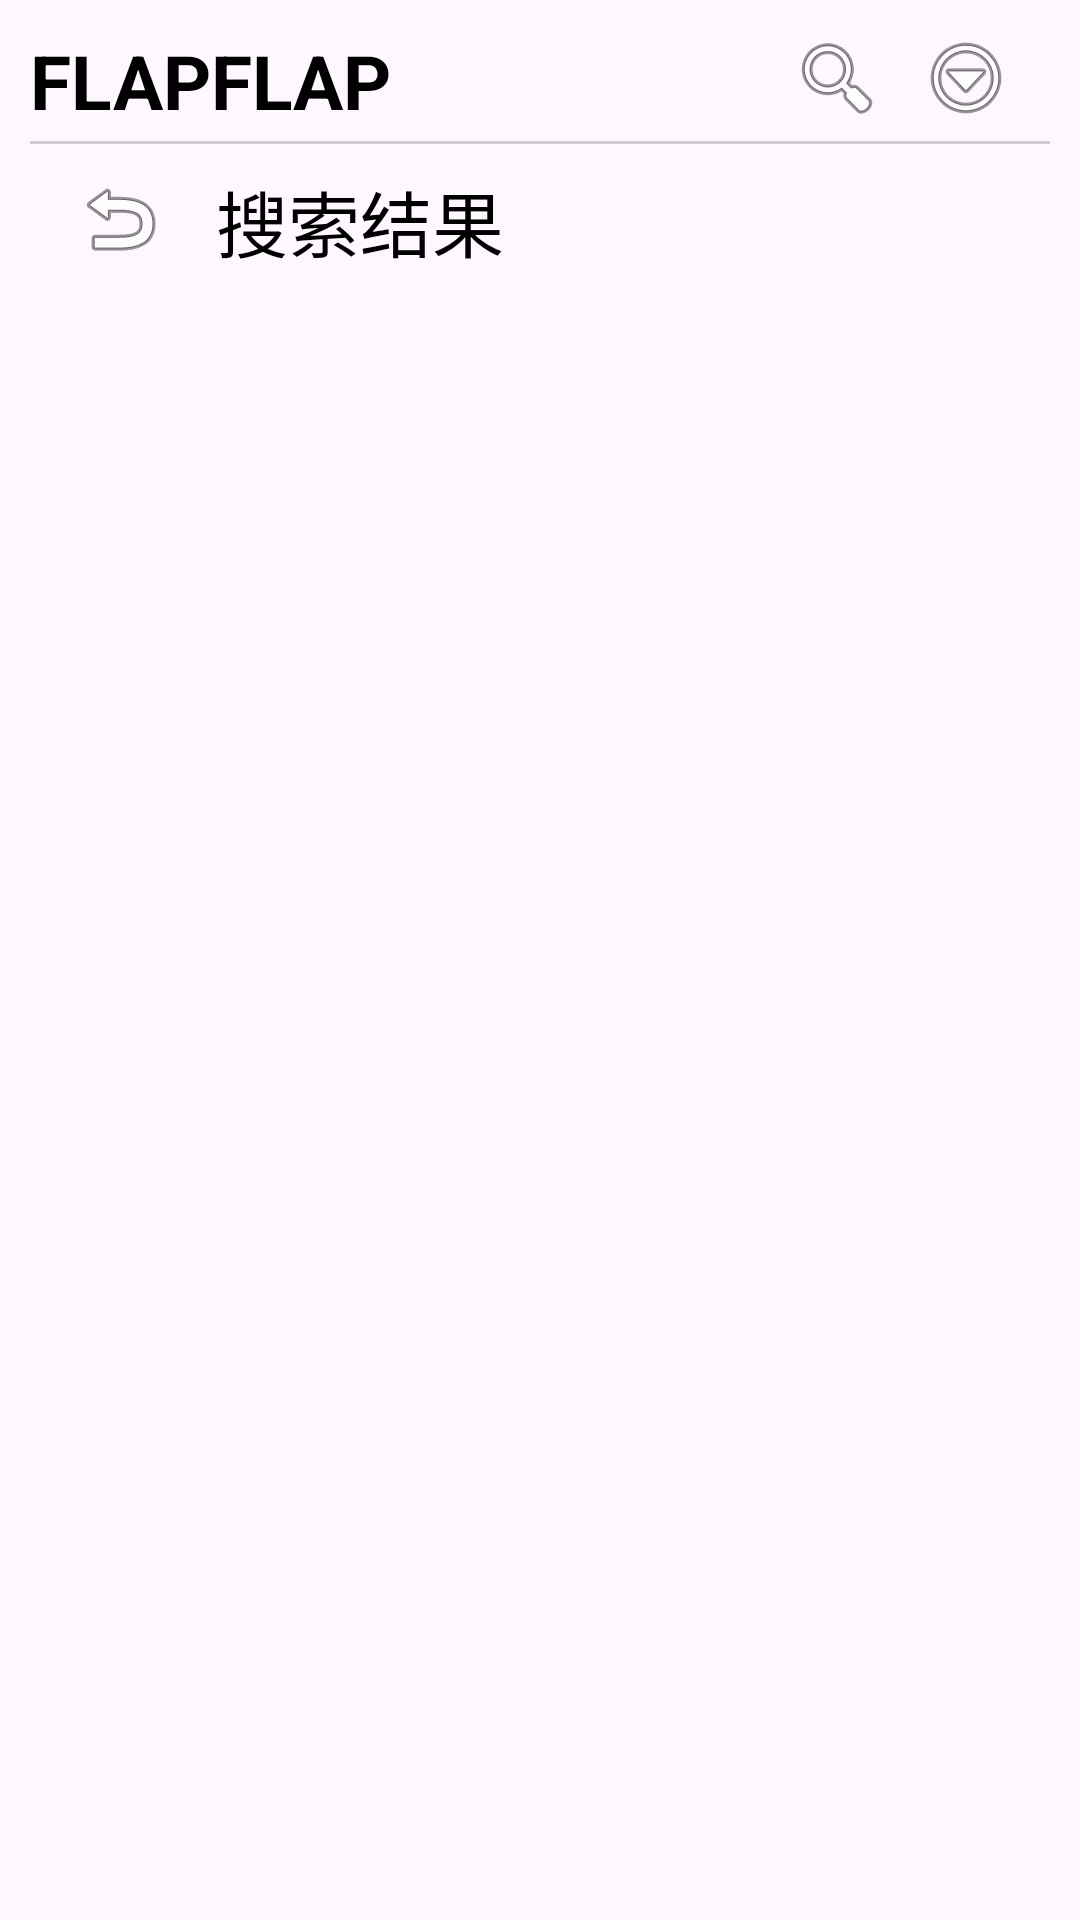

Locate icon controls on the screen. Image size 1080px×1920px, boxes as (x1, y1, x2, y2).
Back: (87, 188, 156, 251)
Menu: (930, 42, 1002, 114)
Search: (801, 43, 873, 114)
